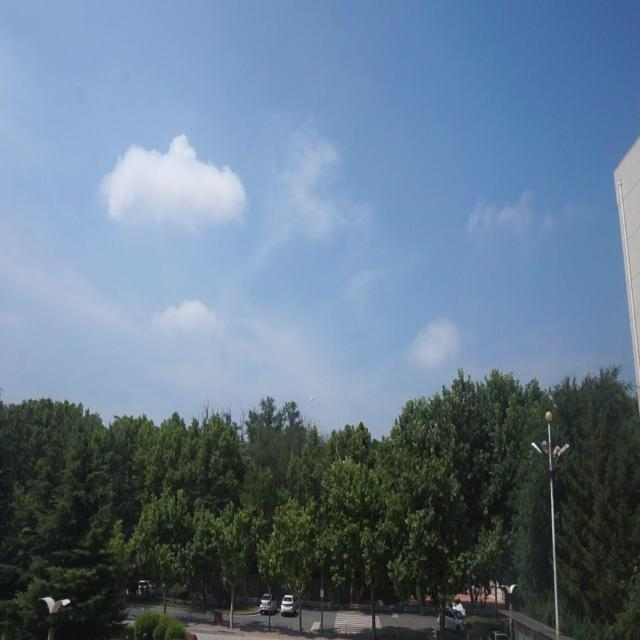drone: (307, 393, 317, 404)
